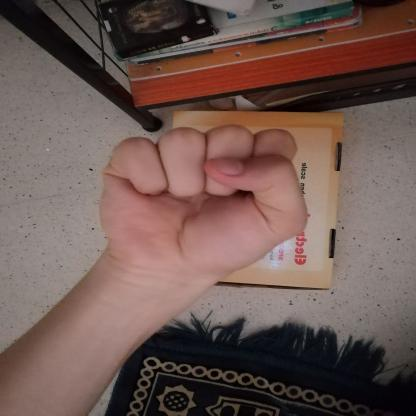SAD: (80, 112, 330, 293)
